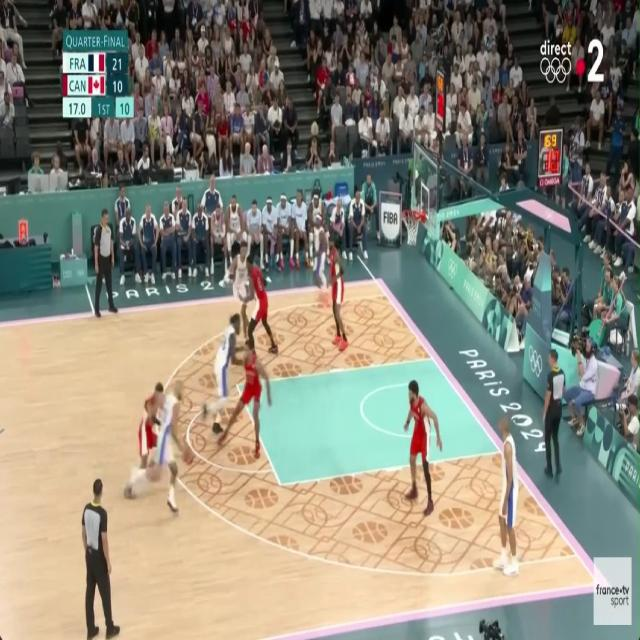ball_handler: (158, 380, 196, 514)
